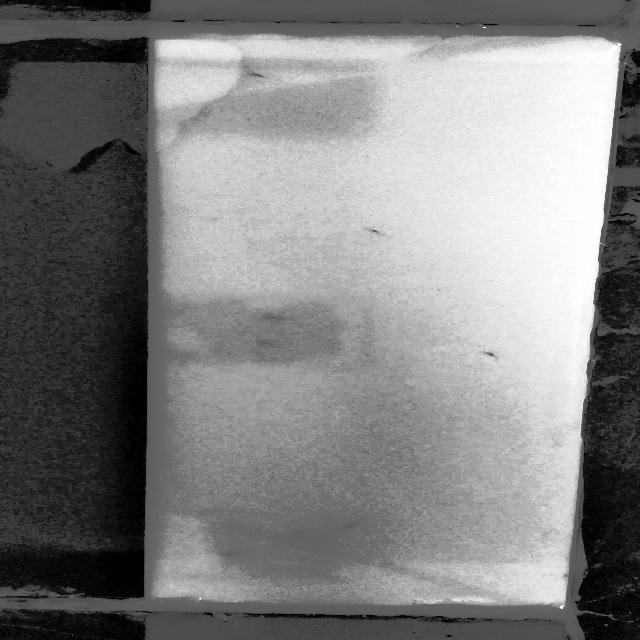shrimp: (260, 311, 292, 323), (342, 518, 370, 531), (257, 334, 282, 348), (366, 227, 390, 239), (245, 71, 273, 81), (219, 550, 246, 560), (288, 530, 317, 538), (479, 348, 498, 359)
